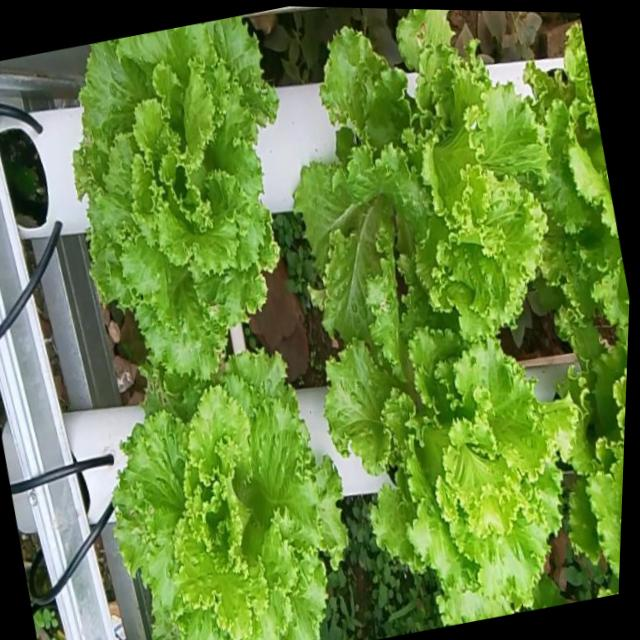Mature: (292, 9, 553, 340), (65, 15, 277, 391), (322, 319, 582, 620), (105, 341, 344, 640)
